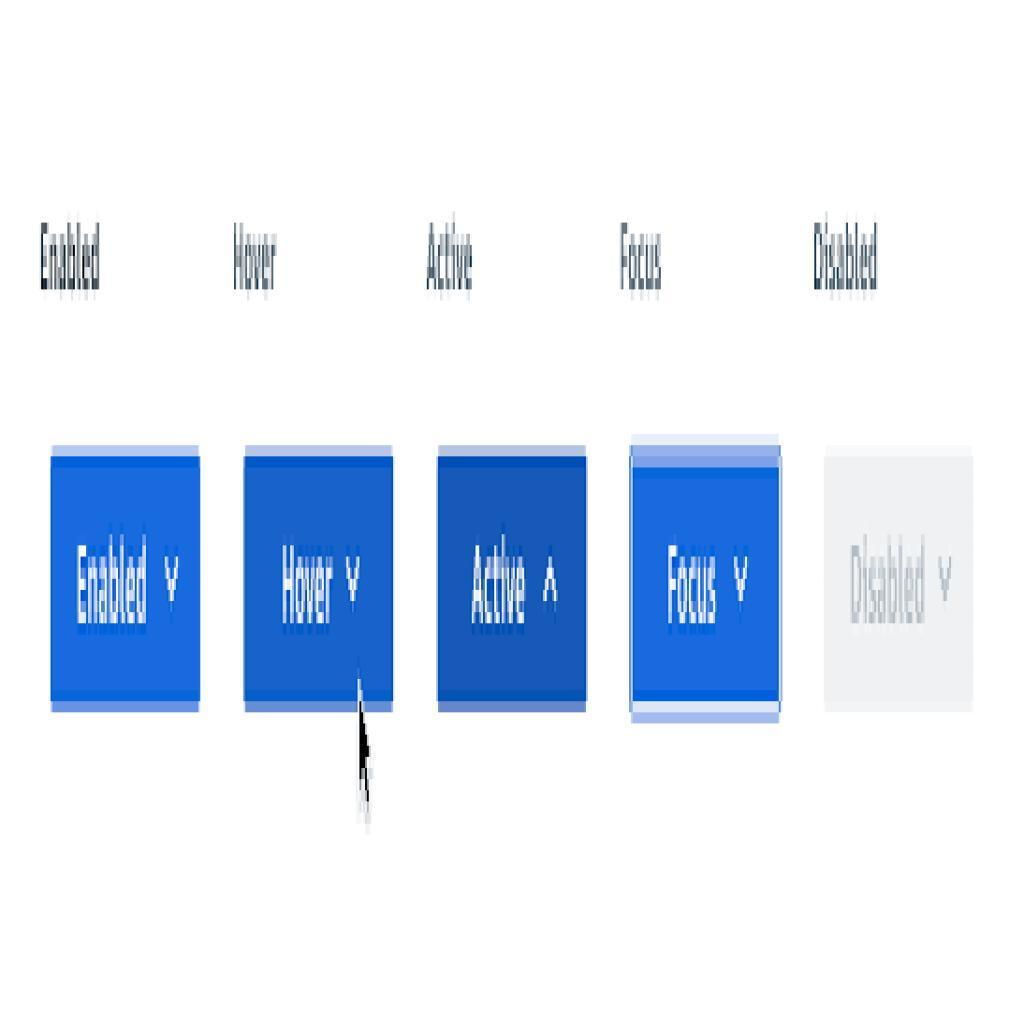dropdown: (435, 446, 592, 716), (49, 443, 203, 714), (242, 445, 397, 713), (629, 441, 782, 709), (826, 453, 974, 714)
